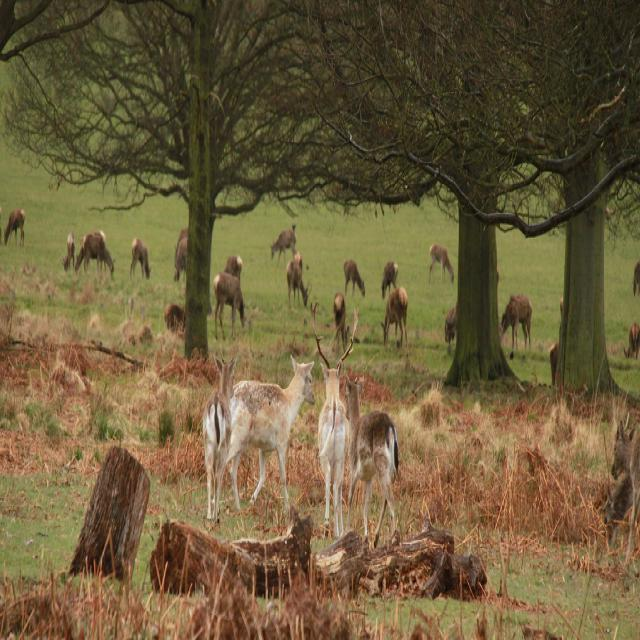Deer: (228, 349, 315, 521), (308, 303, 360, 537), (342, 367, 398, 542), (201, 345, 240, 521), (212, 270, 244, 344), (499, 294, 532, 354), (382, 285, 409, 346), (74, 235, 102, 281), (285, 258, 309, 308), (270, 228, 296, 266), (430, 244, 454, 282), (378, 257, 400, 297), (173, 238, 192, 282), (4, 208, 24, 248), (131, 239, 150, 279), (162, 301, 184, 335), (344, 258, 364, 295), (622, 323, 640, 363), (443, 302, 457, 343), (62, 234, 76, 273), (222, 256, 242, 278), (104, 240, 114, 278), (175, 226, 192, 246), (632, 255, 640, 297)
